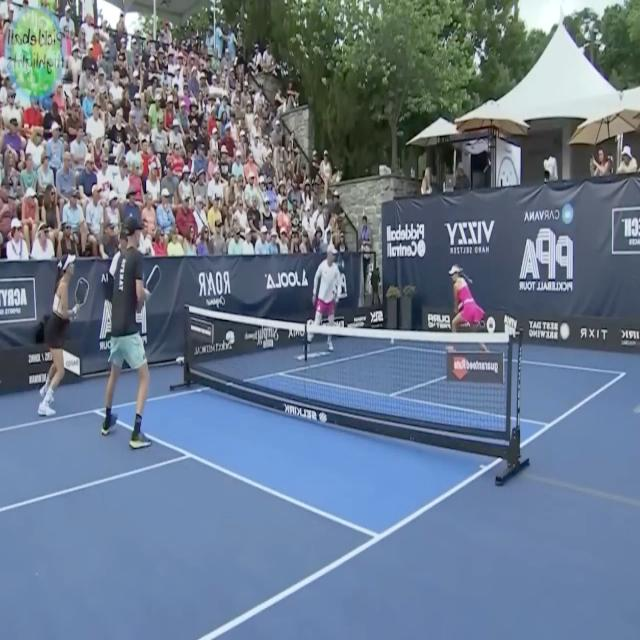Pickleball: (391, 336, 396, 346)
